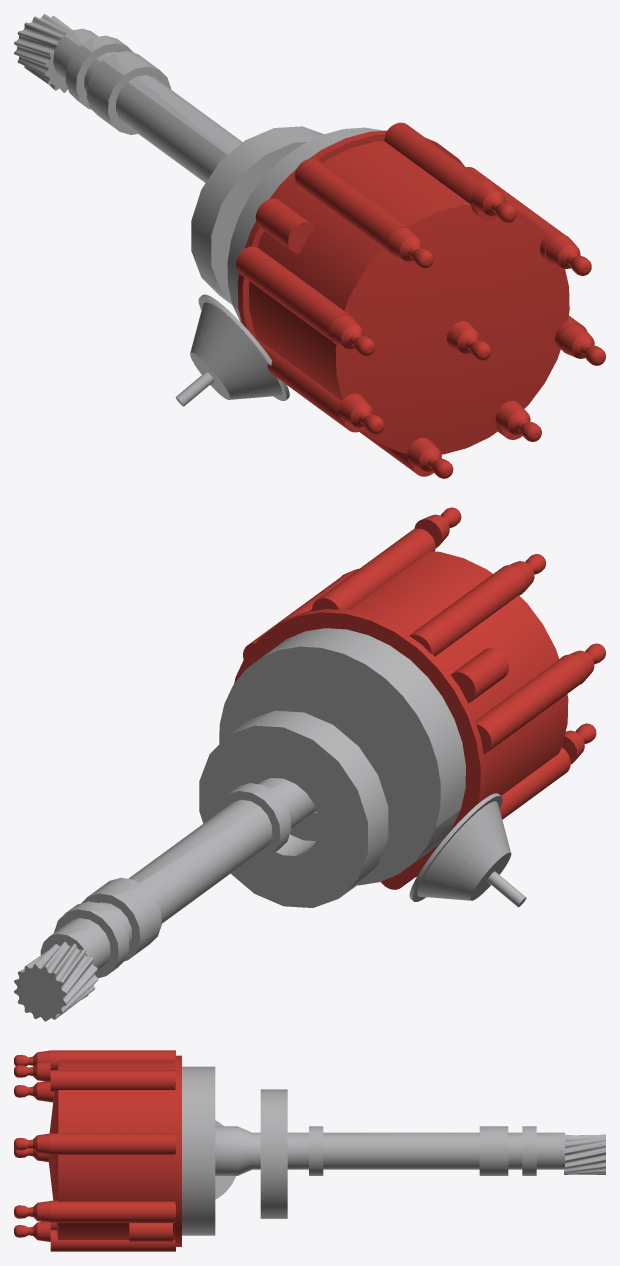
The model's file is distributor-sbc.glb.
3 views of the same model, one above another, from view 1: azimuth 30°, elevation 25°; view 2: azimuth 150°, elevation 25°; view 3: azimuth 270°, elevation 25° (orthographic). The views are drawn at different scales.
Parts seen in each view (by area): view 1: distributor_cap, distributor_body; view 2: distributor_body, distributor_cap; view 3: distributor_cap, distributor_body.
Part boxes in pixels (x1,y1,x2,y2): distributor_cap: [236, 122, 605, 478]; distributor_body: [14, 14, 383, 406]; distributor_body: [14, 628, 526, 1021]; distributor_cap: [234, 507, 605, 889]; distributor_cap: [14, 1050, 181, 1251]; distributor_body: [182, 1066, 605, 1235].
Bounding box in the file's own units: 0.5472 × 0.4809 × 1.37.
